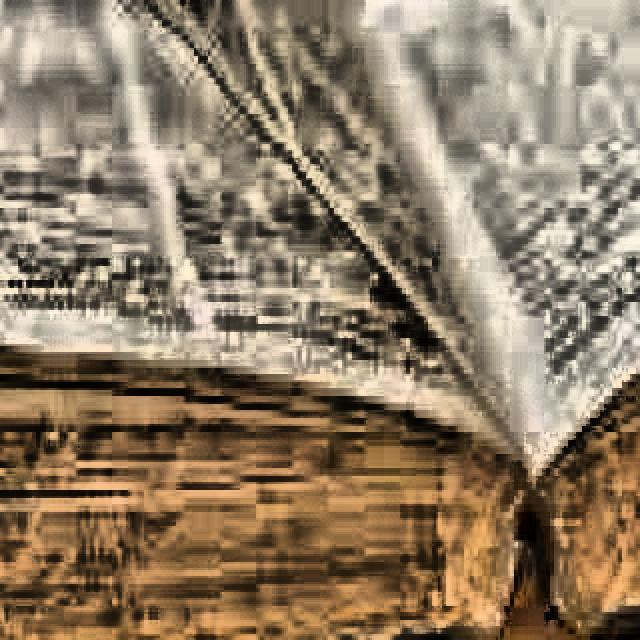paper: (0, 0, 640, 640), (0, 0, 528, 468), (0, 0, 510, 432), (348, 0, 640, 468)
